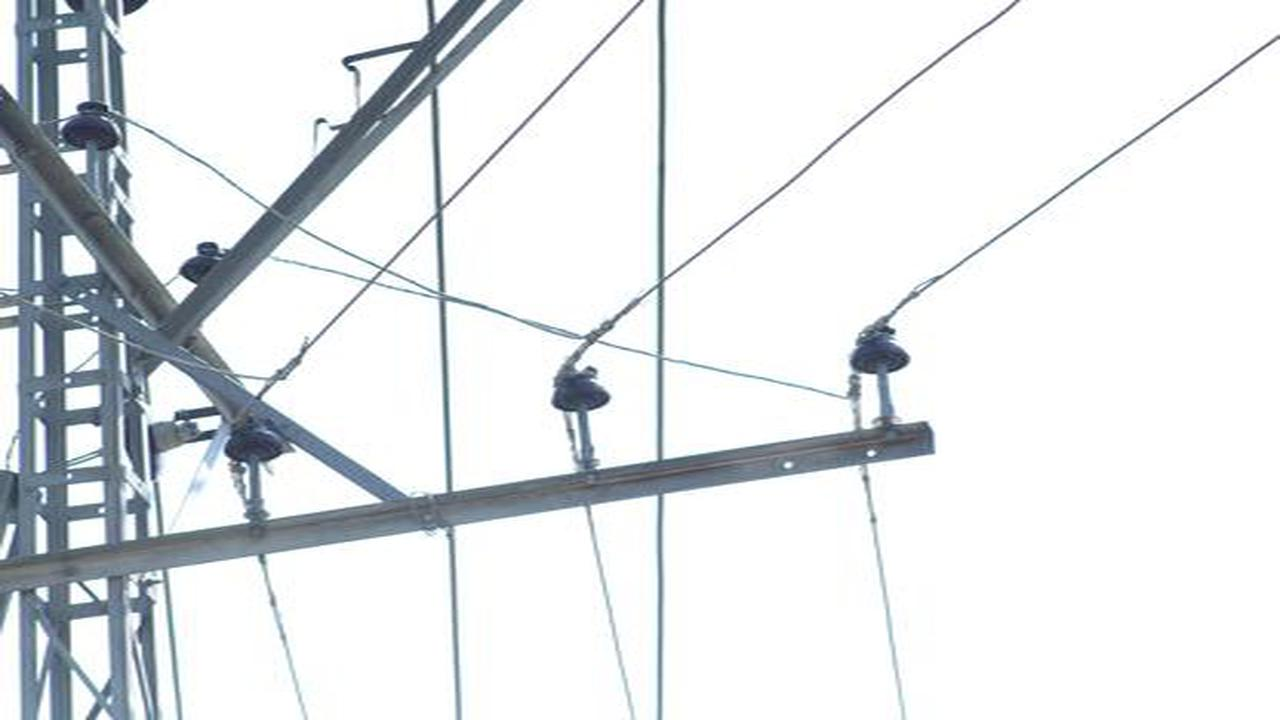insulator_pin: (540, 352, 623, 423), (847, 313, 917, 381), (58, 95, 126, 153), (219, 411, 289, 466)
